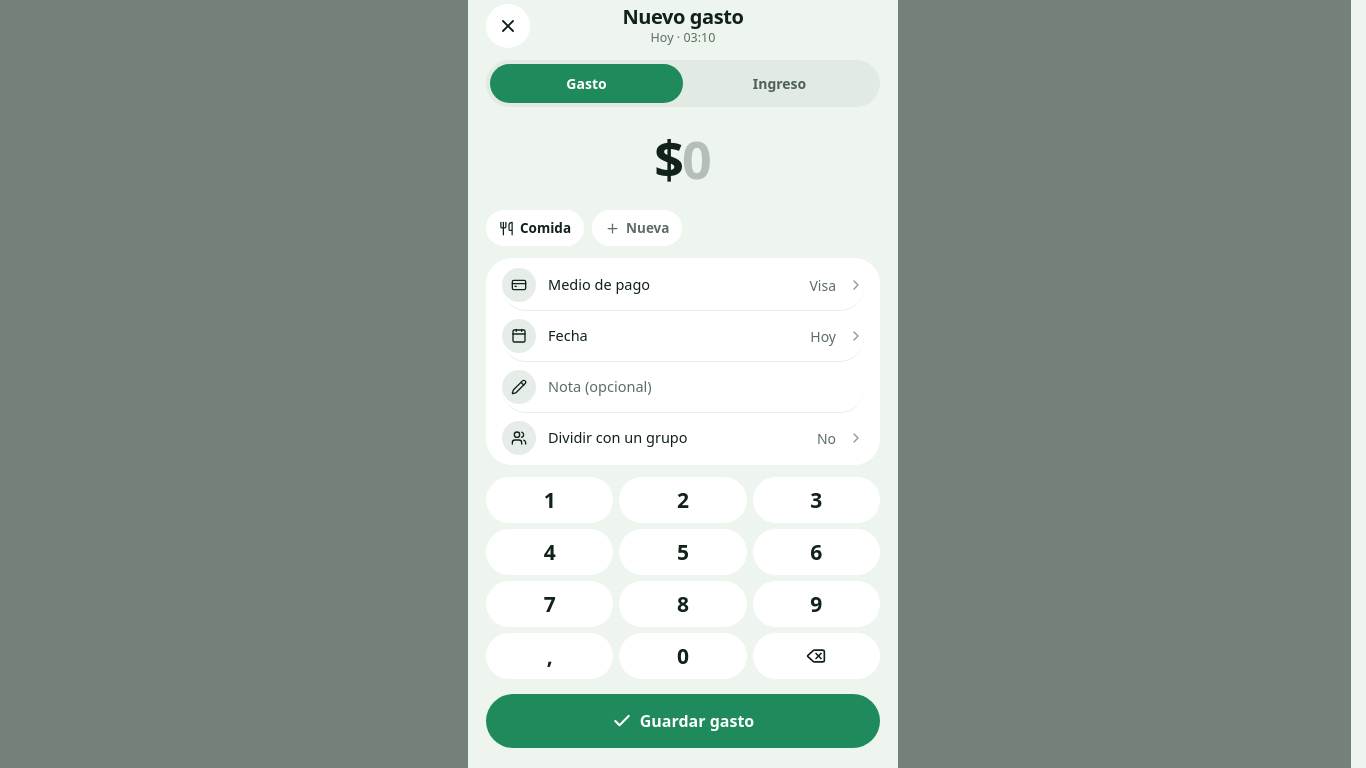
Scenario: MovementSheet overdraft warning › warns about the credit limit (not about money) on a card purchase over the limit
Type "100000" into the field named "Monto" at (697, 158), box x1=682 y1=123 x2=712 y2=194
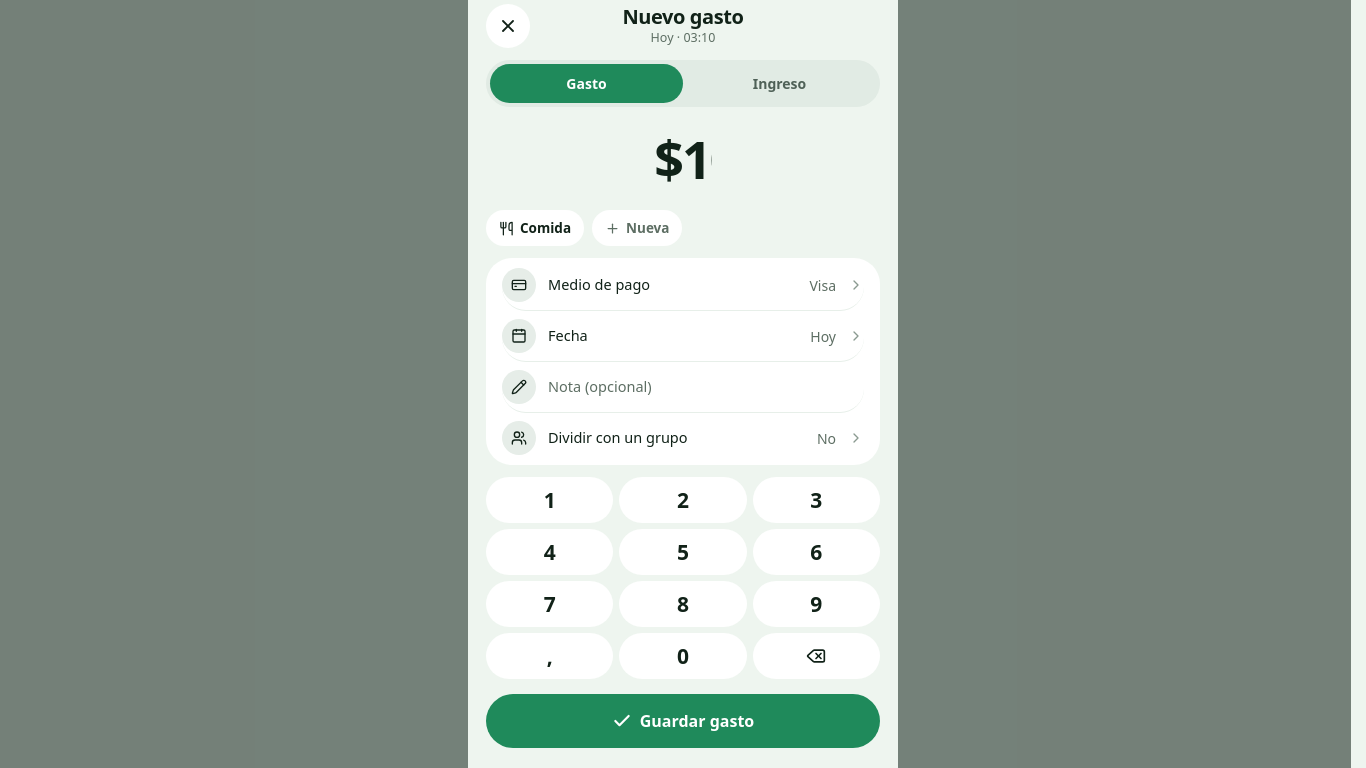
Click the button "Comida" at (535, 228), box x1=486 y1=210 x2=584 y2=246
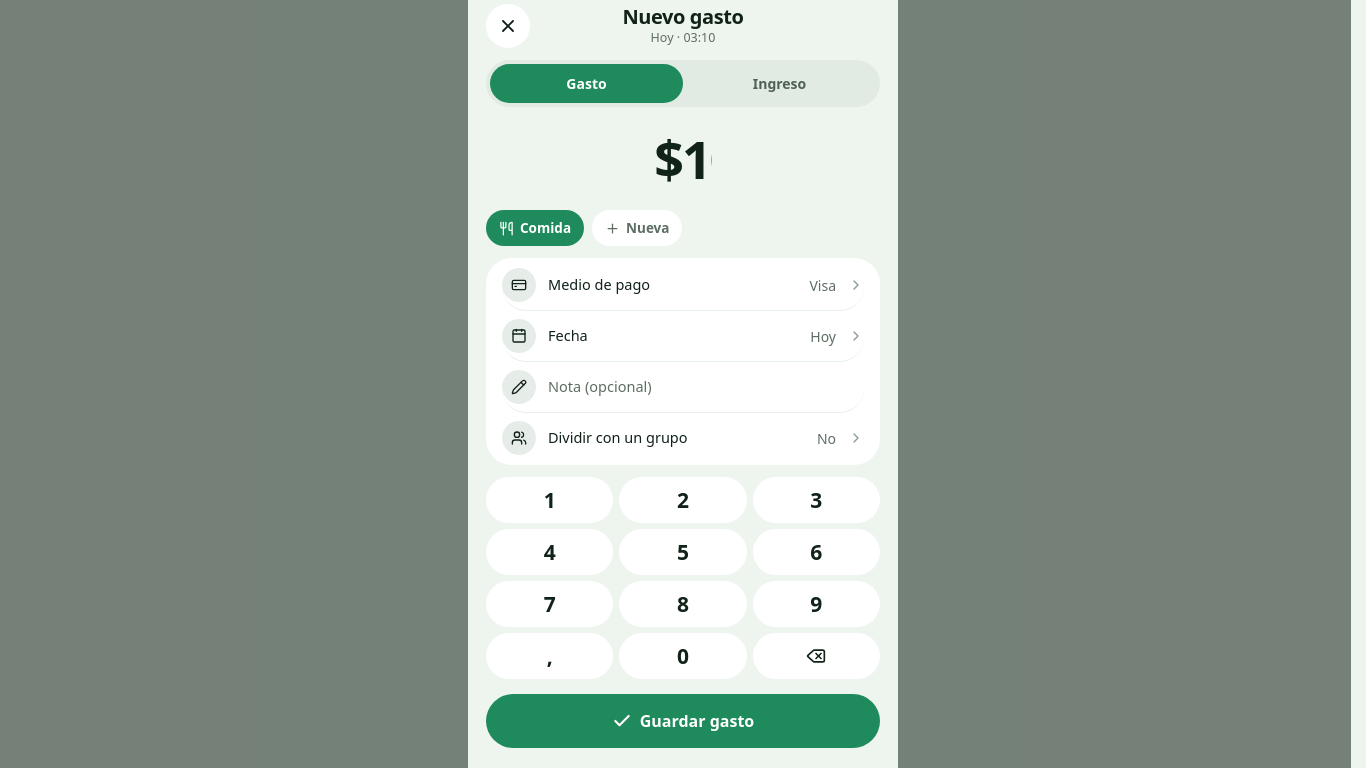
Click the button "Guardar gasto" at (683, 721), box x1=486 y1=694 x2=880 y2=748
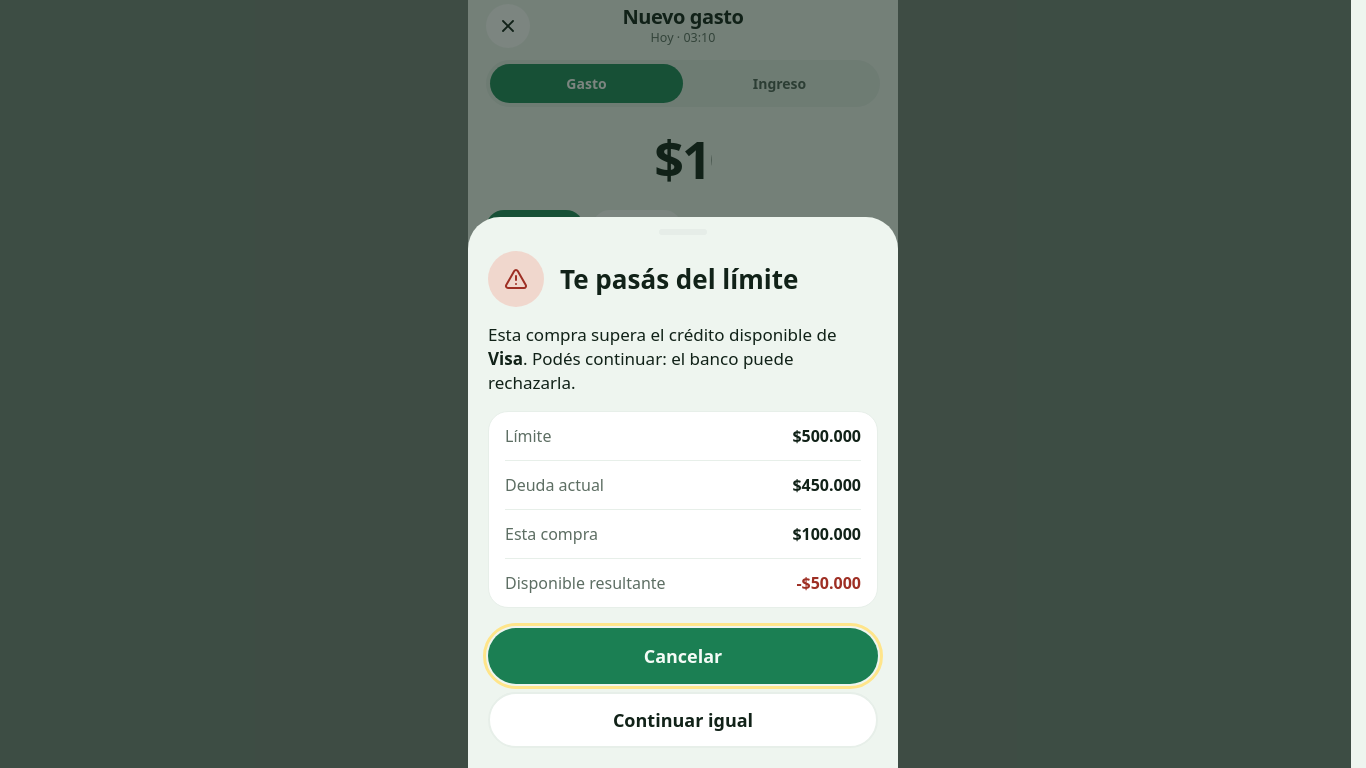
Expected: the dialog does not show "Te falta saldo", x1=468 y1=217 x2=898 y2=767
Now the dialog shows "Te pasás del límite", box x1=560 y1=261 x2=798 y2=297
Now the dialog shows "-$50.000", box x1=796 y1=572 x2=861 y2=594
Click the button "Continuar igual" at (683, 720), box x1=488 y1=692 x2=878 y2=748
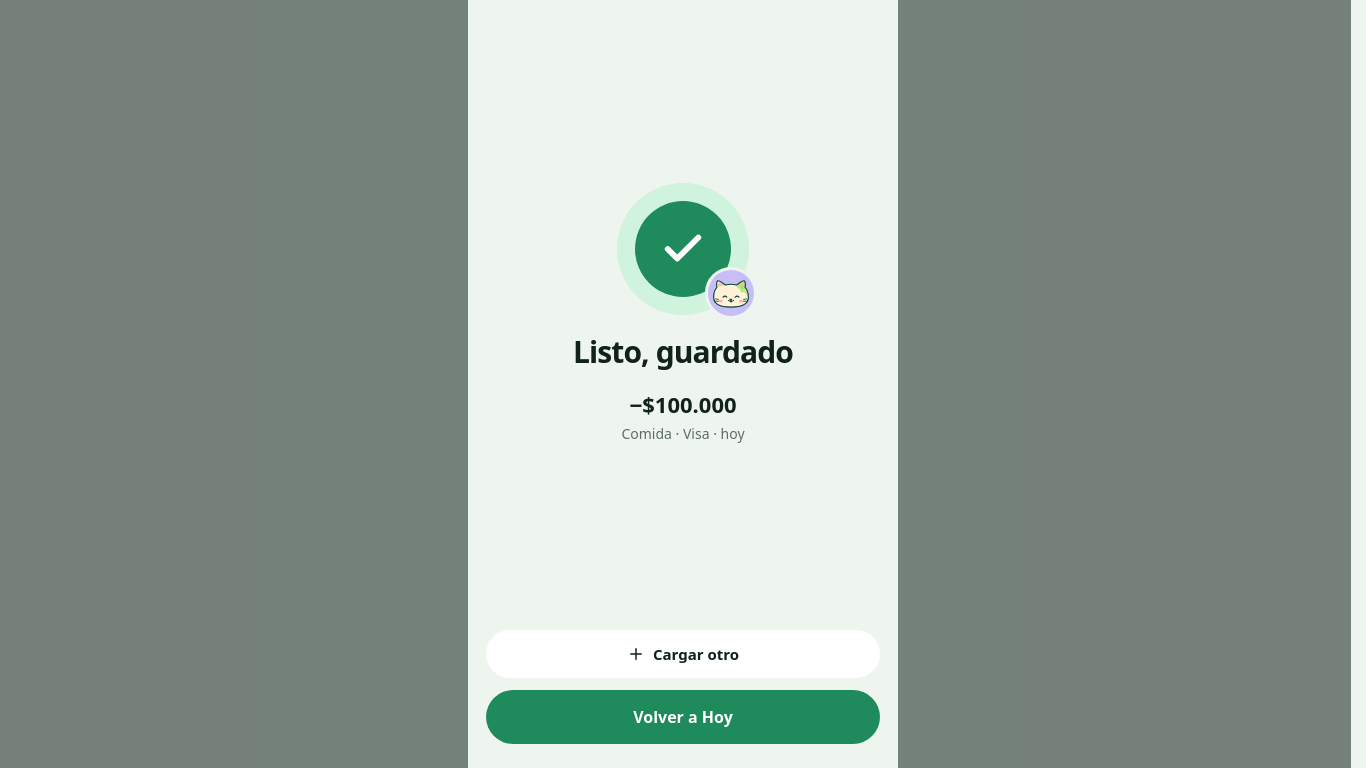
Now the text "Listo, guardado" is shown, box x1=573 y1=328 x2=793 y2=374
